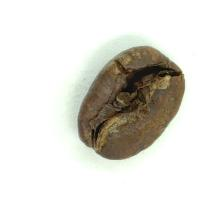NG: (101, 64, 167, 137)
